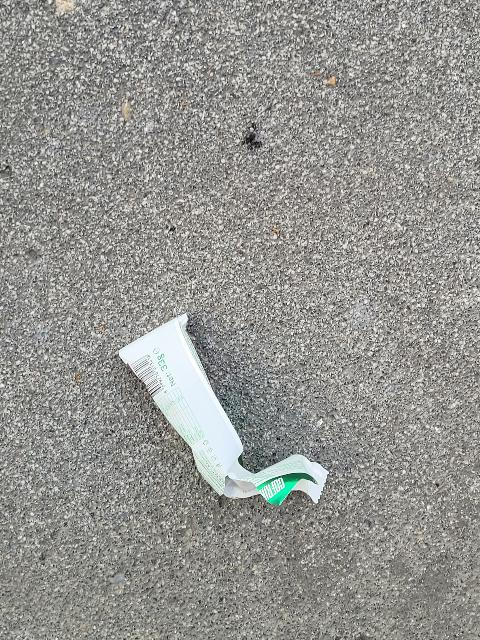Plastik: (117, 310, 333, 511)
